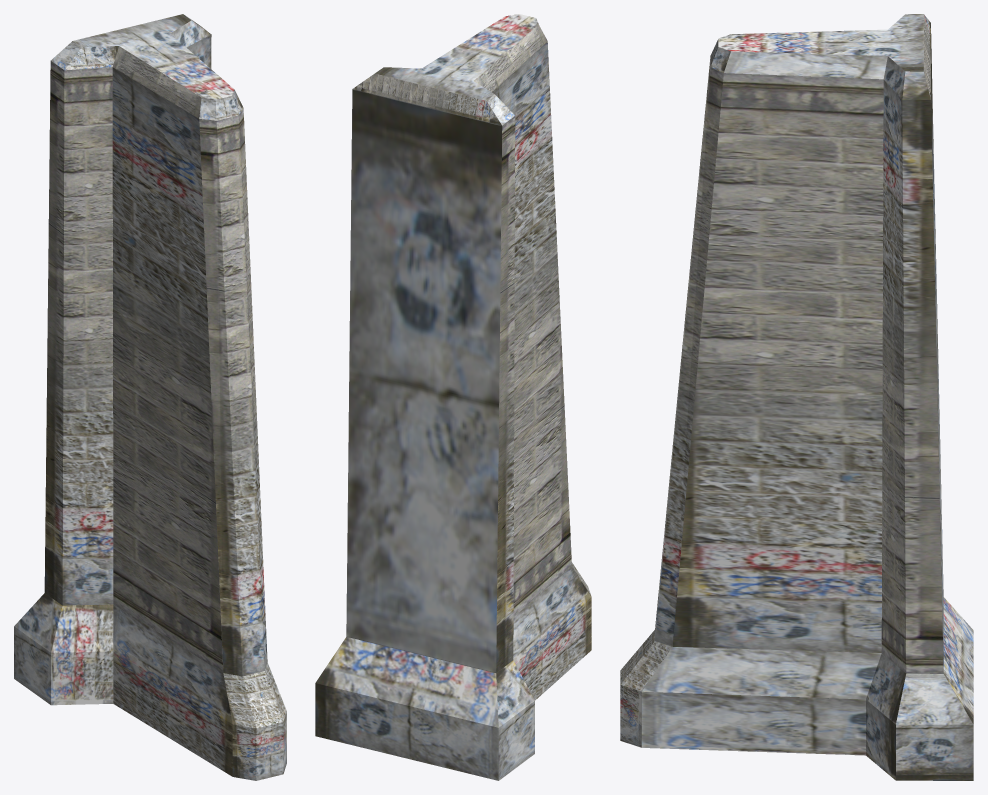
The model's file is concrete-walls-a-1.dae.
3 views of the same model, side by side, from view 1: azimuth 30°, elevation 25°; view 2: azimuth 150°, elevation 25°; view 3: azimuth 270°, elevation 25° (orthographic). The views are drawn at different scales.
Parts seen in each view (by area): view 1: Plane; view 2: Plane; view 3: Plane.
Part boxes in pixels (x1,y1,x2,y2): Plane: (14, 14, 286, 780); Plane: (315, 14, 591, 780); Plane: (620, 14, 973, 780).
Size of the model in its own units: 7.59 by 12 by 25.88.
1 material, 1 textured.
